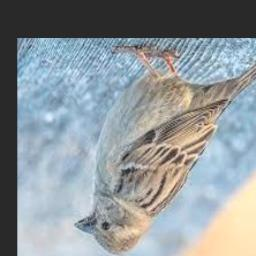Sparrow: (74, 46, 256, 256)
